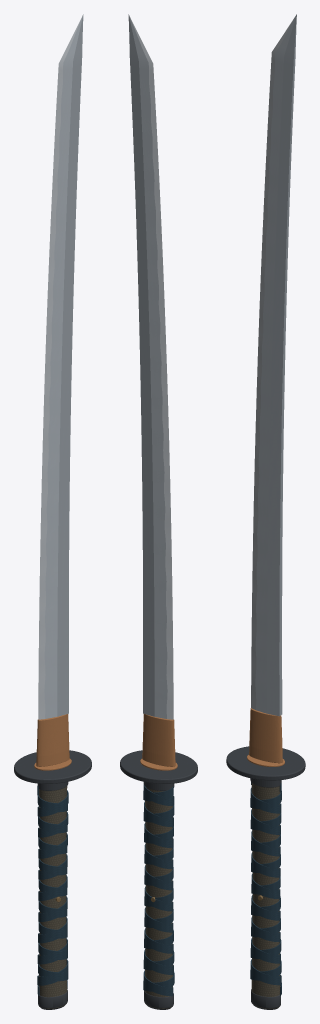
Rendered from SM_Katana.glb.
The picture shows the model from 3 angles, left to right: view 1: azimuth 30°, elevation 25°; view 2: azimuth 150°, elevation 25°; view 3: azimuth 330°, elevation 25°; orthographic projection.
Visible parts, largest first — view 1: KATANA_Blade, KATANA_GripCore, KATANA_ItoWrap_B, KATANA_ItoWrap_A, KATANA_Habaki, KATANA_Tsuba, KATANA_Kashira; view 2: KATANA_Blade, KATANA_ItoWrap_B, KATANA_GripCore, KATANA_ItoWrap_A, KATANA_Habaki, KATANA_Tsuba, KATANA_Kashira; view 3: KATANA_Blade, KATANA_GripCore, KATANA_ItoWrap_B, KATANA_ItoWrap_A, KATANA_Tsuba, KATANA_Habaki, KATANA_Kashira.
Boxes of the visible parts, x1,y1,x2,y2 form: KATANA_Blade: (38,14,83,719); KATANA_GripCore: (39,786,67,1008); KATANA_ItoWrap_B: (37,795,68,995); KATANA_ItoWrap_A: (37,786,68,988); KATANA_Habaki: (36,714,69,766); KATANA_Tsuba: (14,750,91,783); KATANA_Kashira: (38,990,67,1009); KATANA_Blade: (128,14,173,719); KATANA_ItoWrap_B: (143,784,174,996); KATANA_GripCore: (145,787,172,1008); KATANA_ItoWrap_A: (143,786,174,991); KATANA_Habaki: (142,714,175,766); KATANA_Tsuba: (120,750,197,783); KATANA_Kashira: (144,990,173,1009); KATANA_Blade: (251,14,296,716); KATANA_GripCore: (251,783,280,1008); KATANA_ItoWrap_B: (250,783,281,985); KATANA_ItoWrap_A: (250,782,281,995); KATANA_Tsuba: (226,746,305,780); KATANA_Habaki: (249,708,282,763); KATANA_Kashira: (251,989,280,1009).
Bounding box in the file's own units: 0.076 × 1.02 × 0.064.
Materials: 8 (8 with a texture image).
